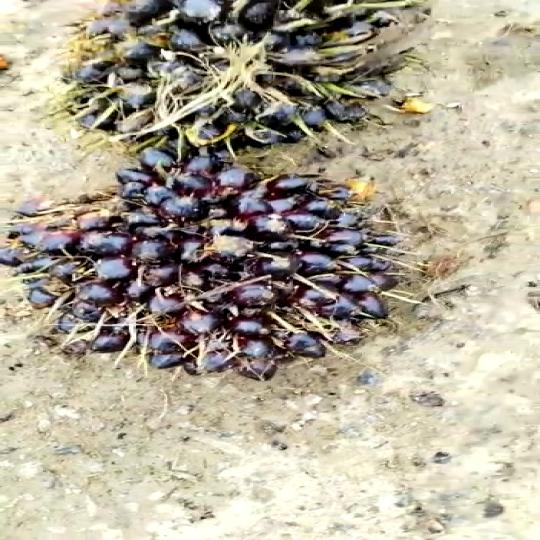mentah: (0, 156, 435, 408), (47, 5, 447, 160)
